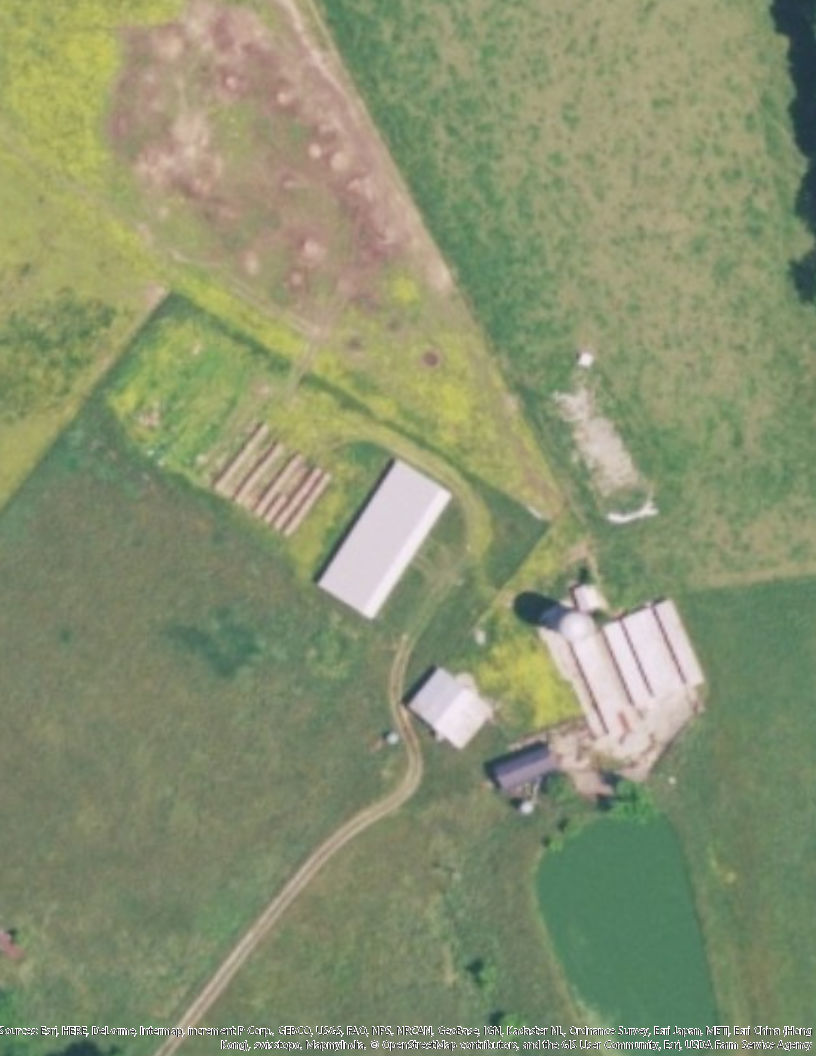cafo: (313, 459, 456, 623)
